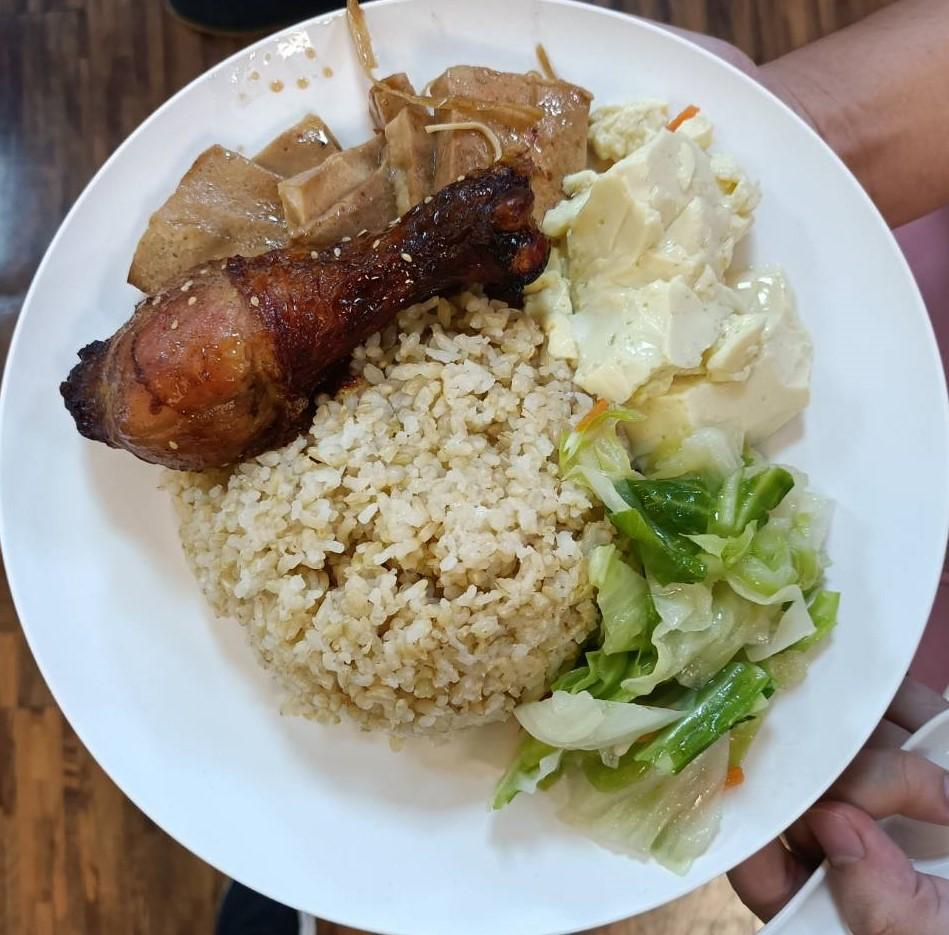big fried chicken leg: (8, 4, 949, 935)
box: (175, 293, 606, 739)
braised fish fillet: (503, 438, 832, 865), (120, 66, 594, 291), (536, 94, 821, 448)
braised pork: (58, 166, 544, 468)
